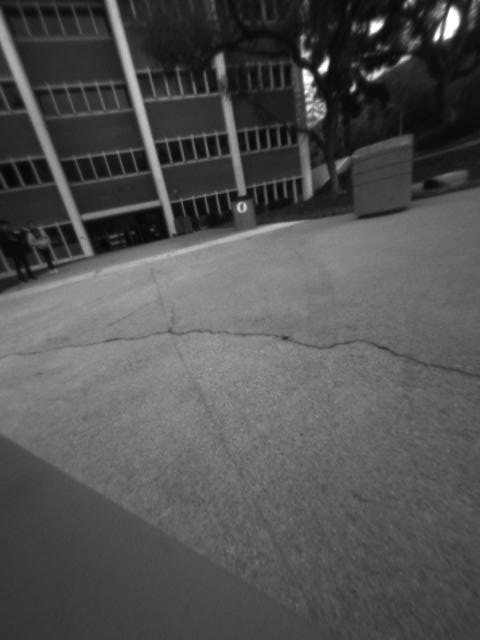trashcan: (347, 129, 416, 219), (229, 193, 260, 232)
